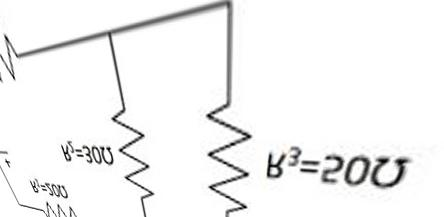resistor: (186, 93, 256, 214), (110, 91, 145, 207)
